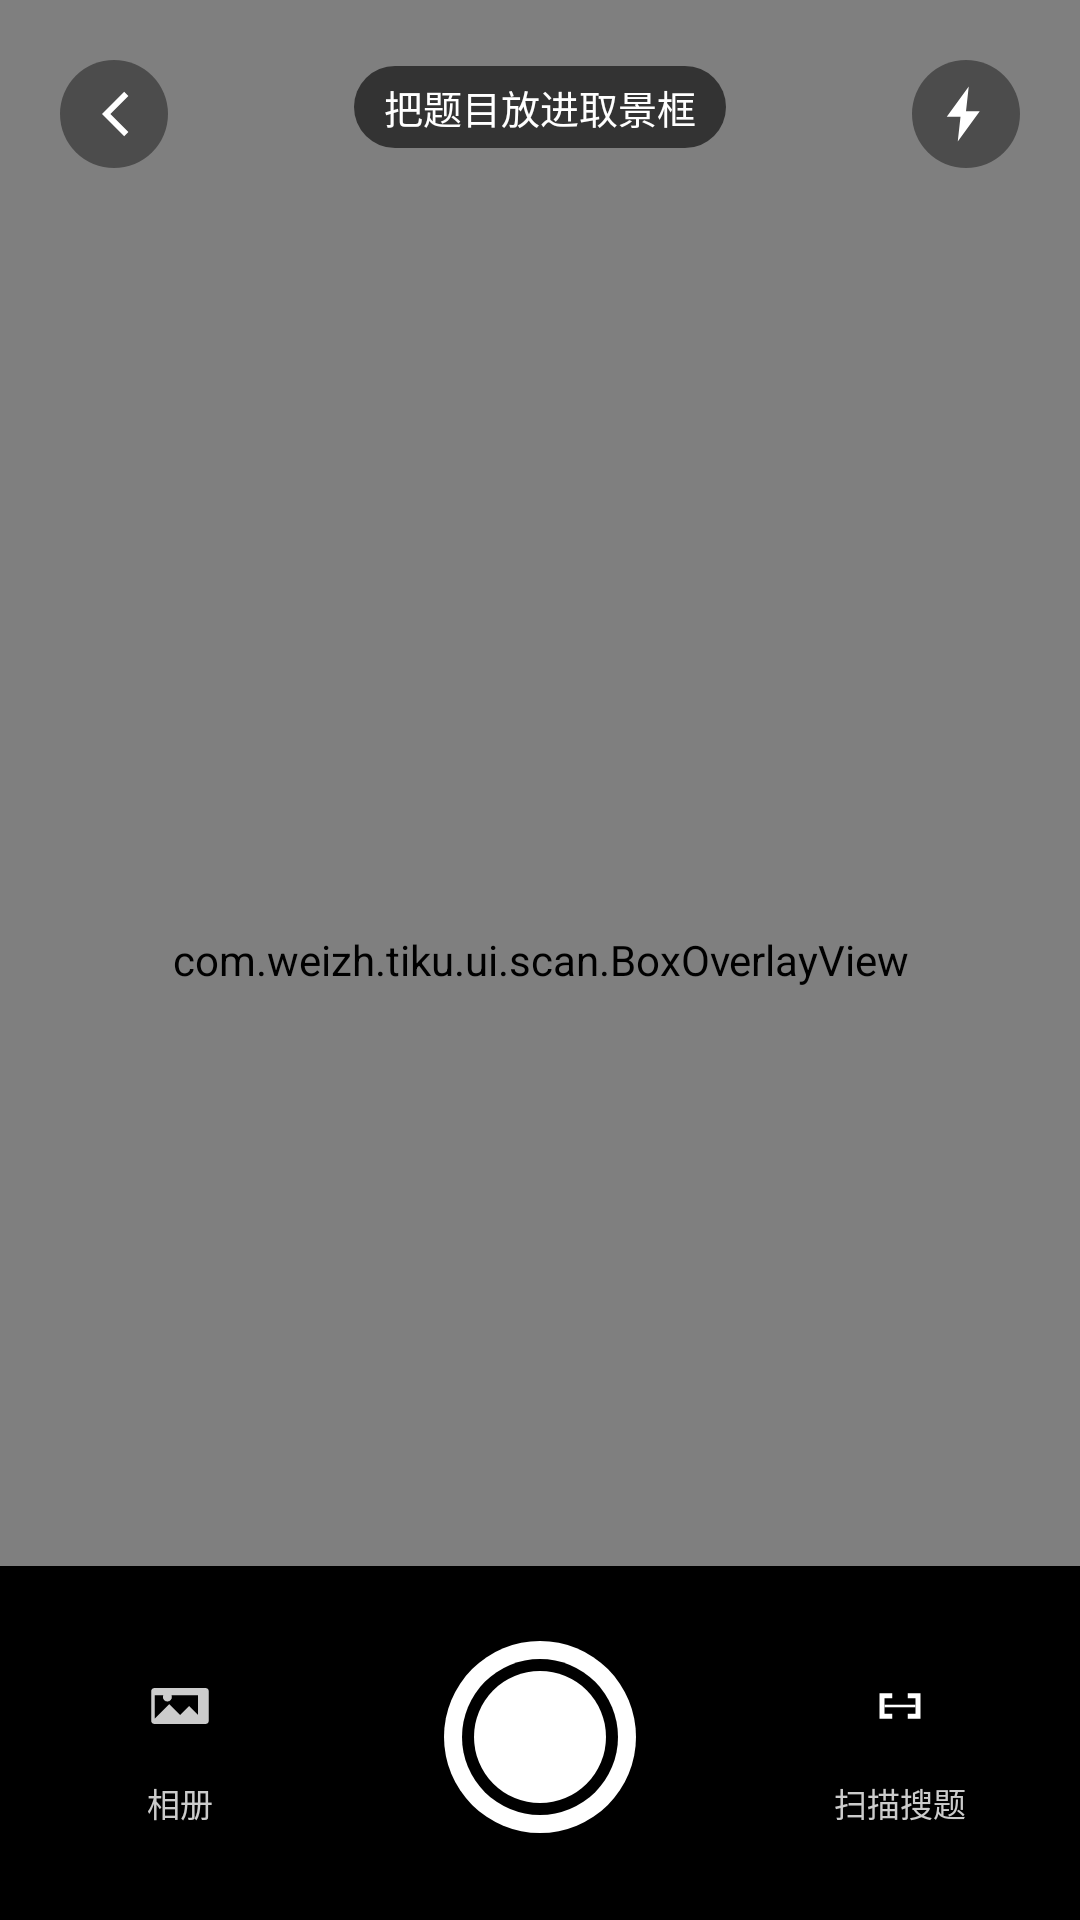

Screen size 1080 x 1920. Icon name, then its center in pixels as point (x, y):
back: point (114, 114)
flash off: point (966, 114)
kong scan: point (900, 1706)
photo album: point (180, 1706)
shutter: point (540, 1737)
